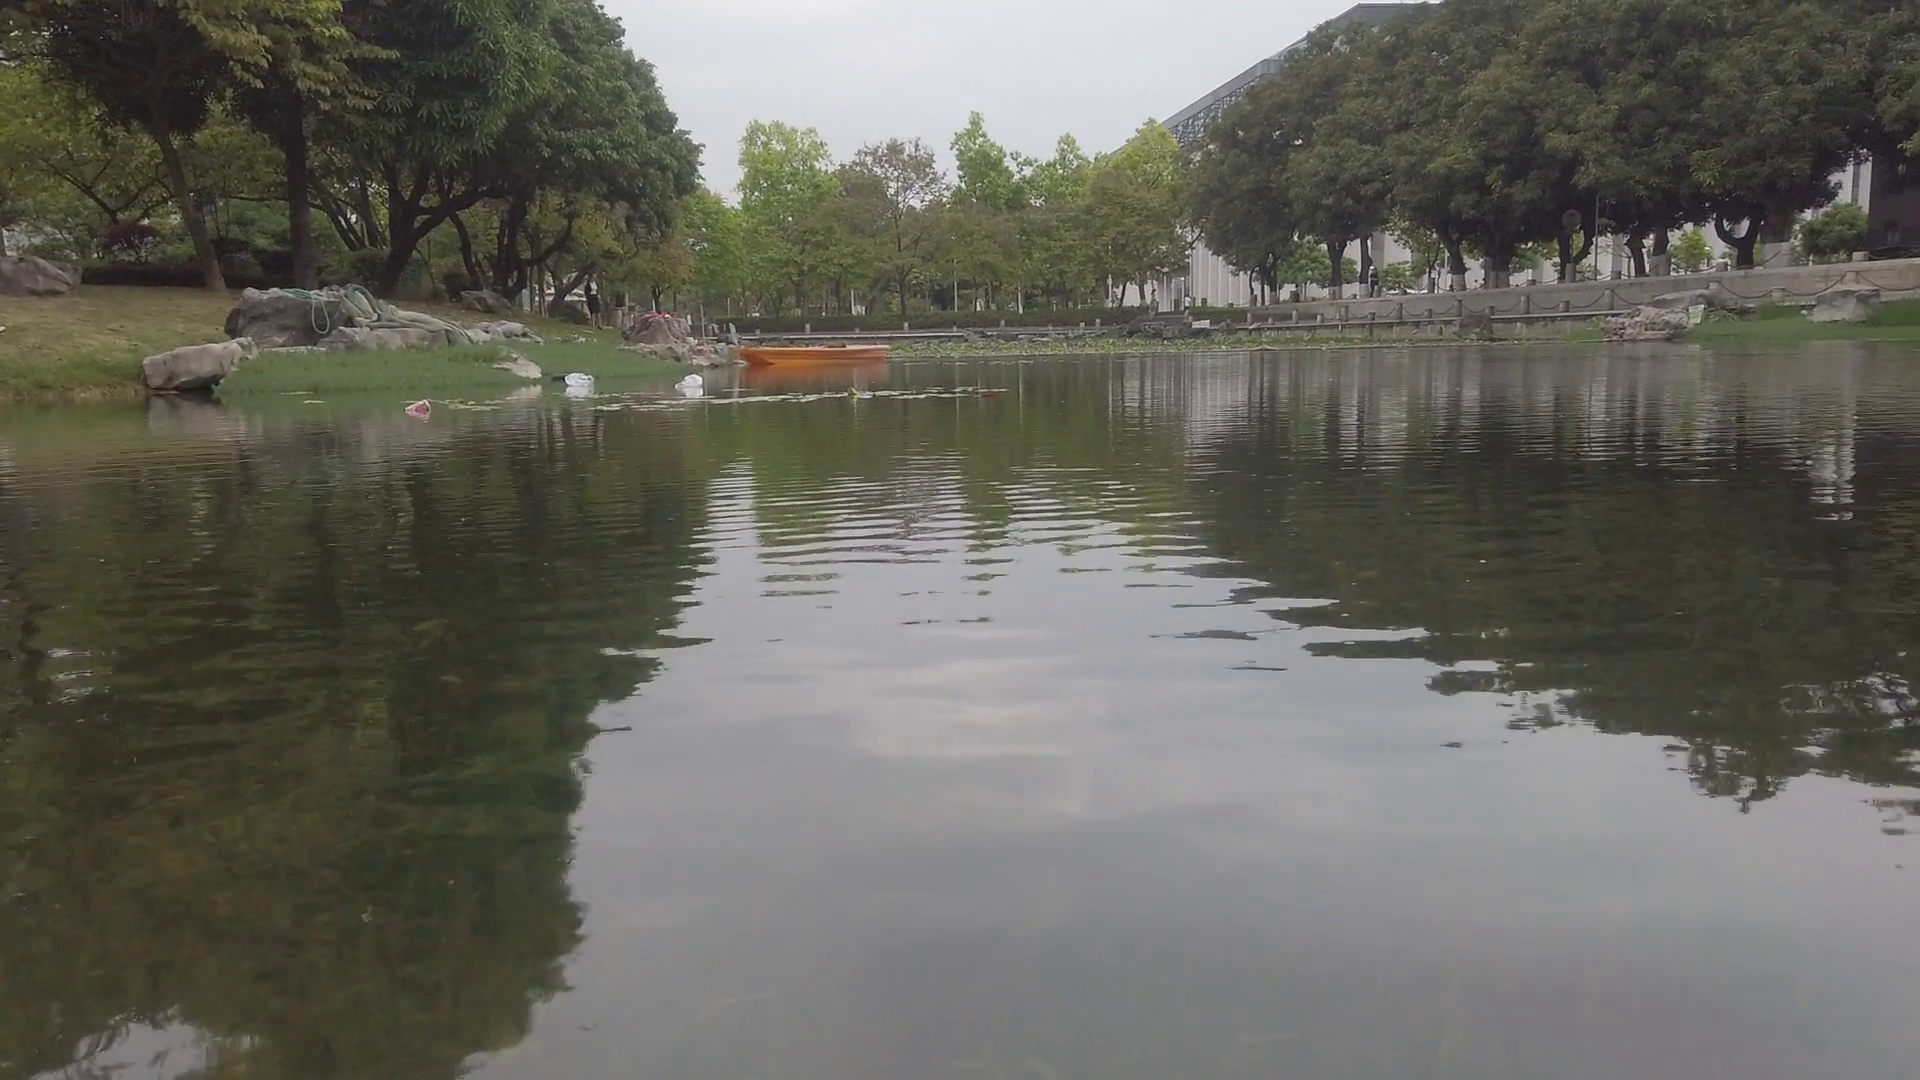bottle: (404, 401, 431, 411)
plastic: (562, 372, 599, 386), (676, 375, 703, 389)
